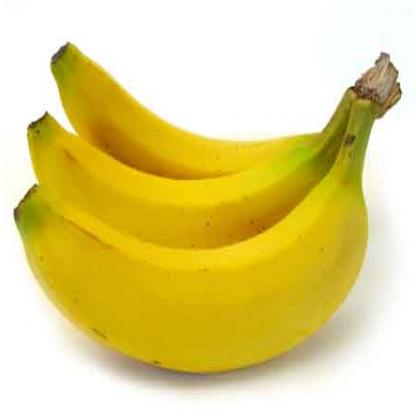banana: (8, 180, 401, 408), (14, 106, 316, 267), (53, 41, 310, 200)
